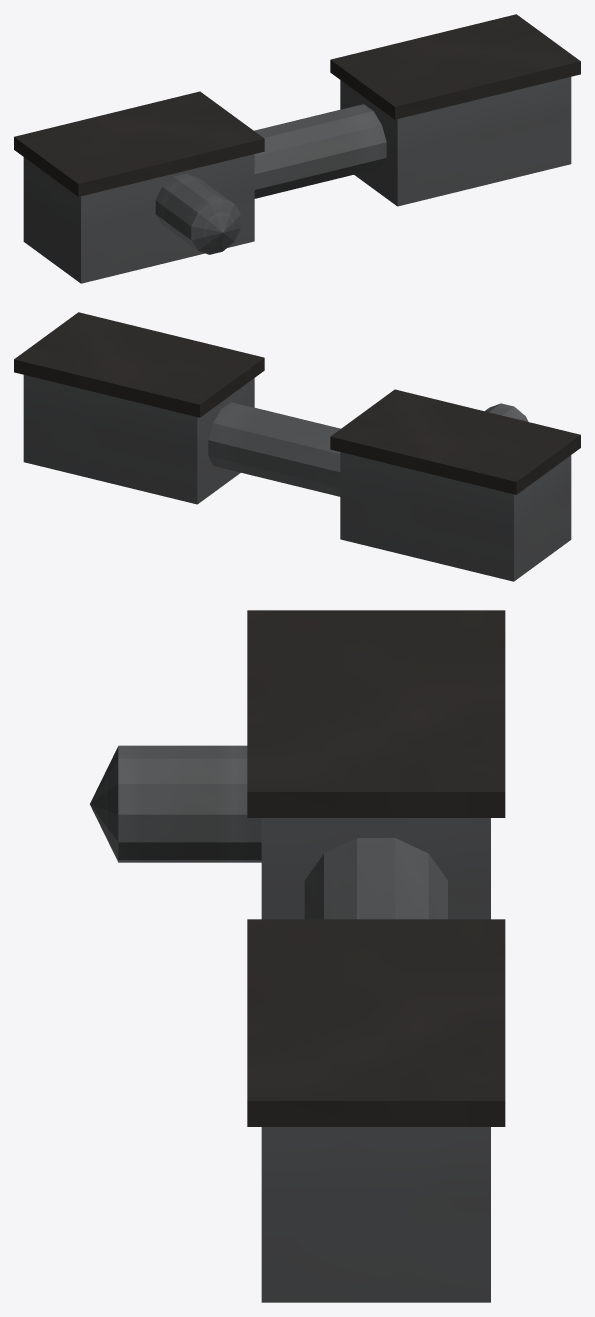
File: track_switch.obj
3 views of the same model, one above another, from view 1: azimuth 30°, elevation 25°; view 2: azimuth 150°, elevation 25°; view 3: azimuth 270°, elevation 25° (orthographic). The views are drawn at different scales.
Visible parts, largest first — view 1: cube, cylinder, cone; view 2: cube, cylinder; view 3: cube, cylinder, cone.
Boxes of the visible parts, box(x1,y1,x2,y2) form: cube: box(14, 14, 580, 283); cylinder: box(155, 104, 386, 250); cone: box(191, 199, 240, 254); cube: box(14, 312, 580, 581); cylinder: box(208, 402, 528, 496); cube: box(247, 610, 505, 1302); cylinder: box(118, 745, 447, 919); cone: box(90, 746, 118, 861).
Bounding box in the file's own units: 1.27 × 0.25 × 0.4531.
2 materials, 2 textured.
